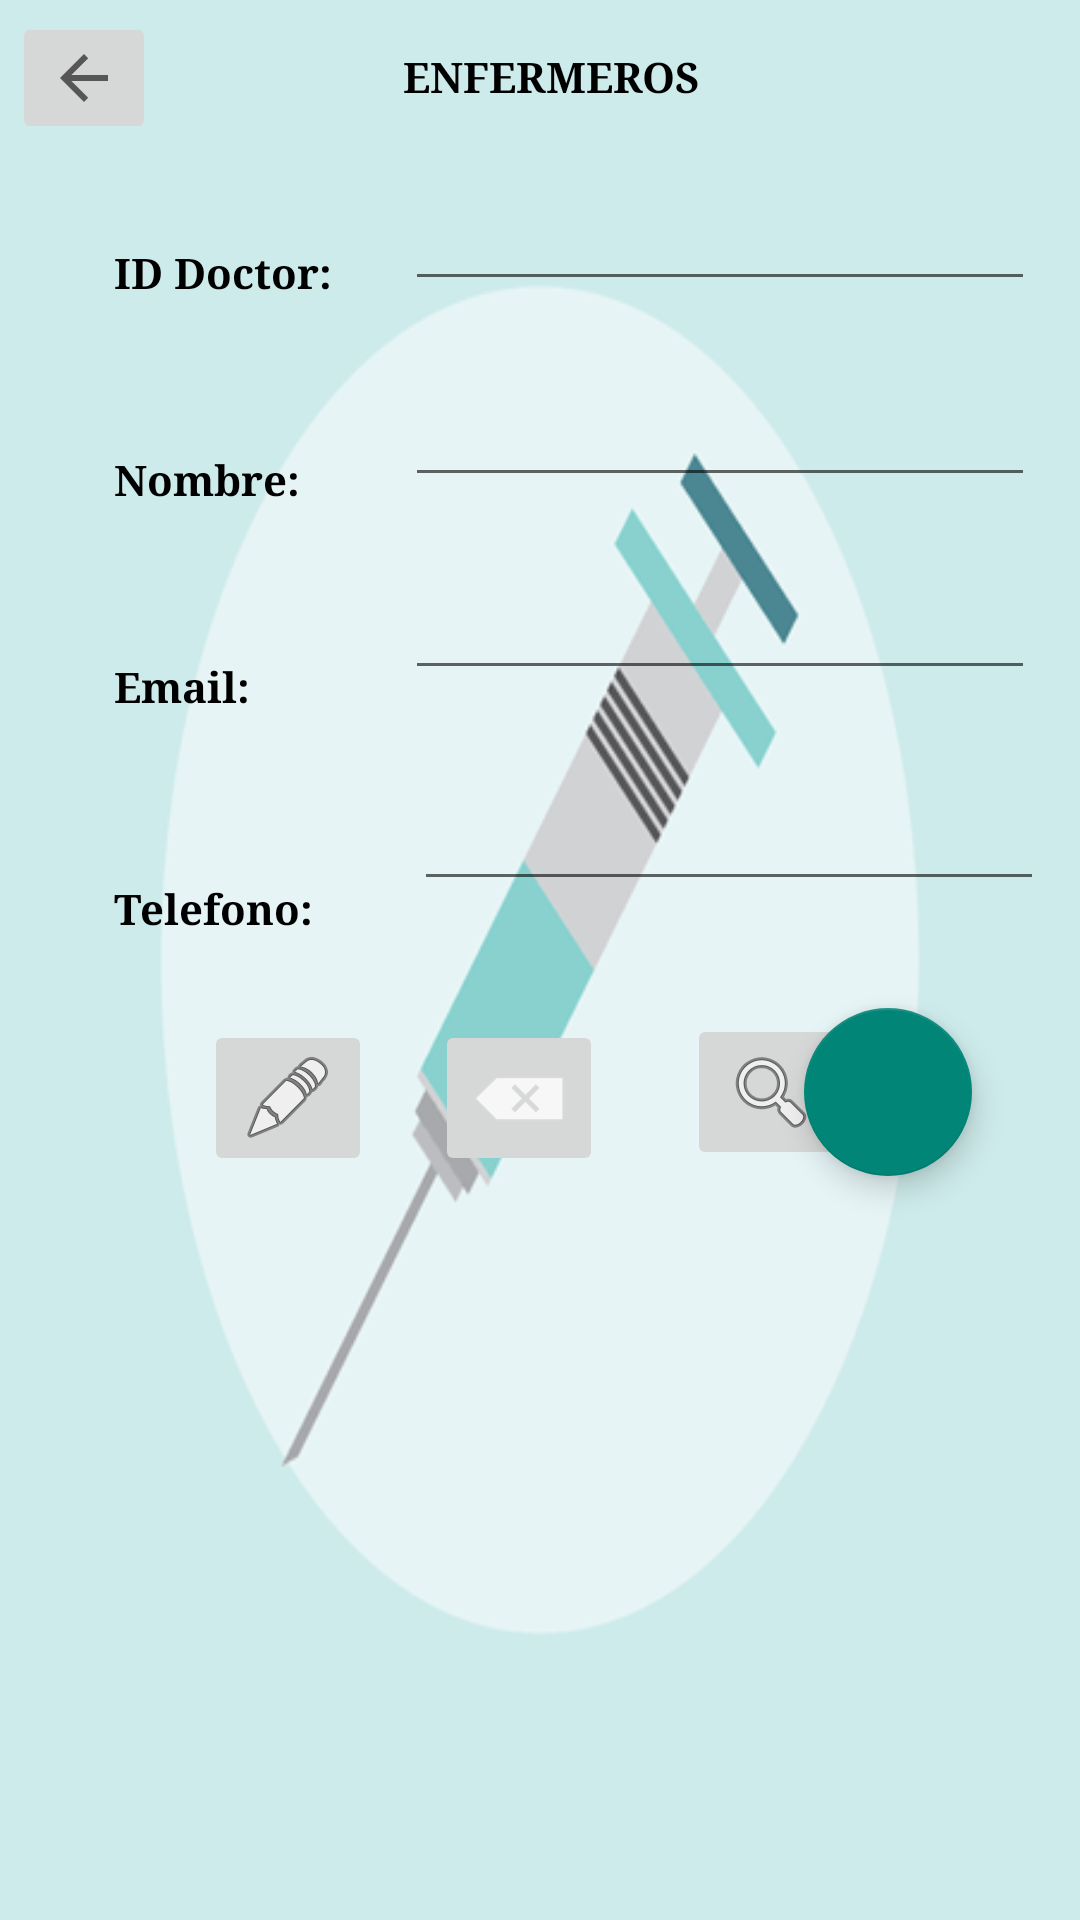

Point at icon controls on the screen. Image size 1080x1920, points as point (x, y).
delete: point (519, 1098)
edit: point (288, 1098)
